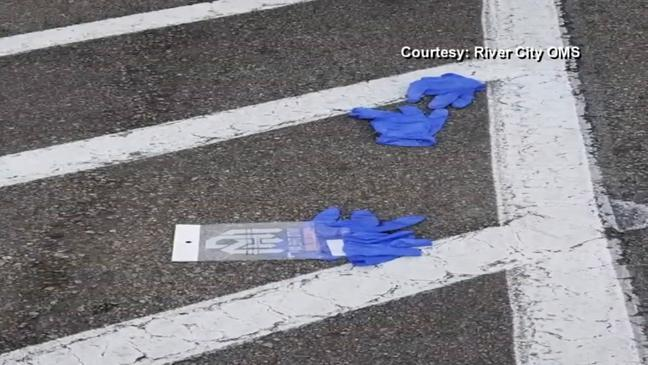gloves: (286, 201, 441, 281), (341, 99, 448, 154), (400, 67, 488, 110)
